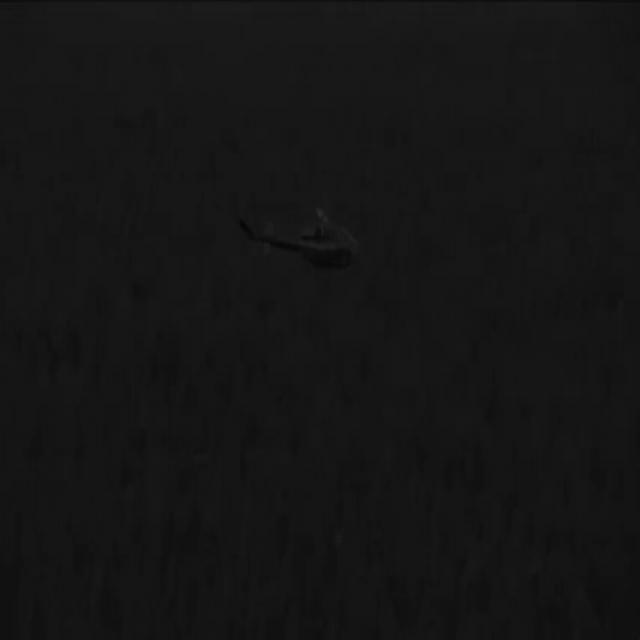helikopter: (231, 188, 378, 298)
